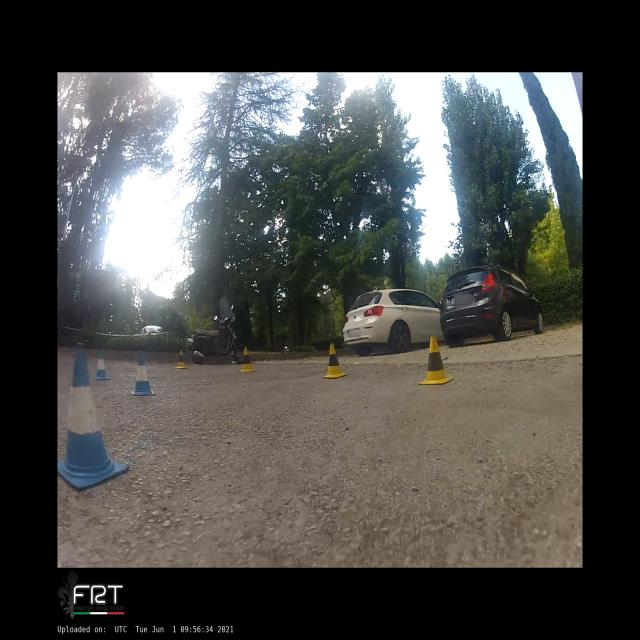blue_cone: (57, 348, 128, 489), (132, 352, 155, 396), (93, 350, 111, 380)
yellow_cone: (418, 334, 454, 384), (322, 344, 348, 378), (239, 347, 256, 372), (174, 349, 188, 368)
